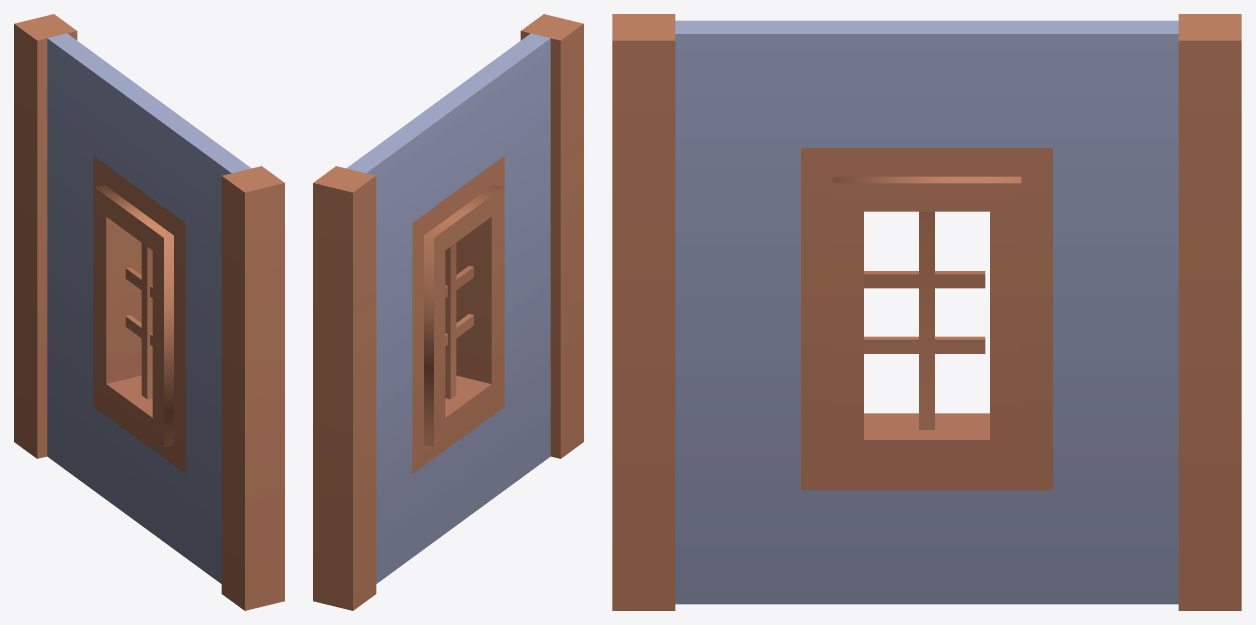
Rendered from wall-window-glass.glb.
3 renders of one model, left to right at view 1: azimuth 30°, elevation 25°; view 2: azimuth 150°, elevation 25°; view 3: azimuth 270°, elevation 25°, orthographic. The views are drawn at different scales.
Parts seen in each view (by area): view 1: wall-window-glass; view 2: wall-window-glass; view 3: wall-window-glass.
Boxes of the visible parts, x1,y1,x2,y2 form: wall-window-glass: (14, 14, 284, 610); wall-window-glass: (313, 14, 583, 610); wall-window-glass: (612, 14, 1241, 610).
Size of the model in its own units: 0.1 by 1 by 1.
Materials: 1 (1 with a texture image).
